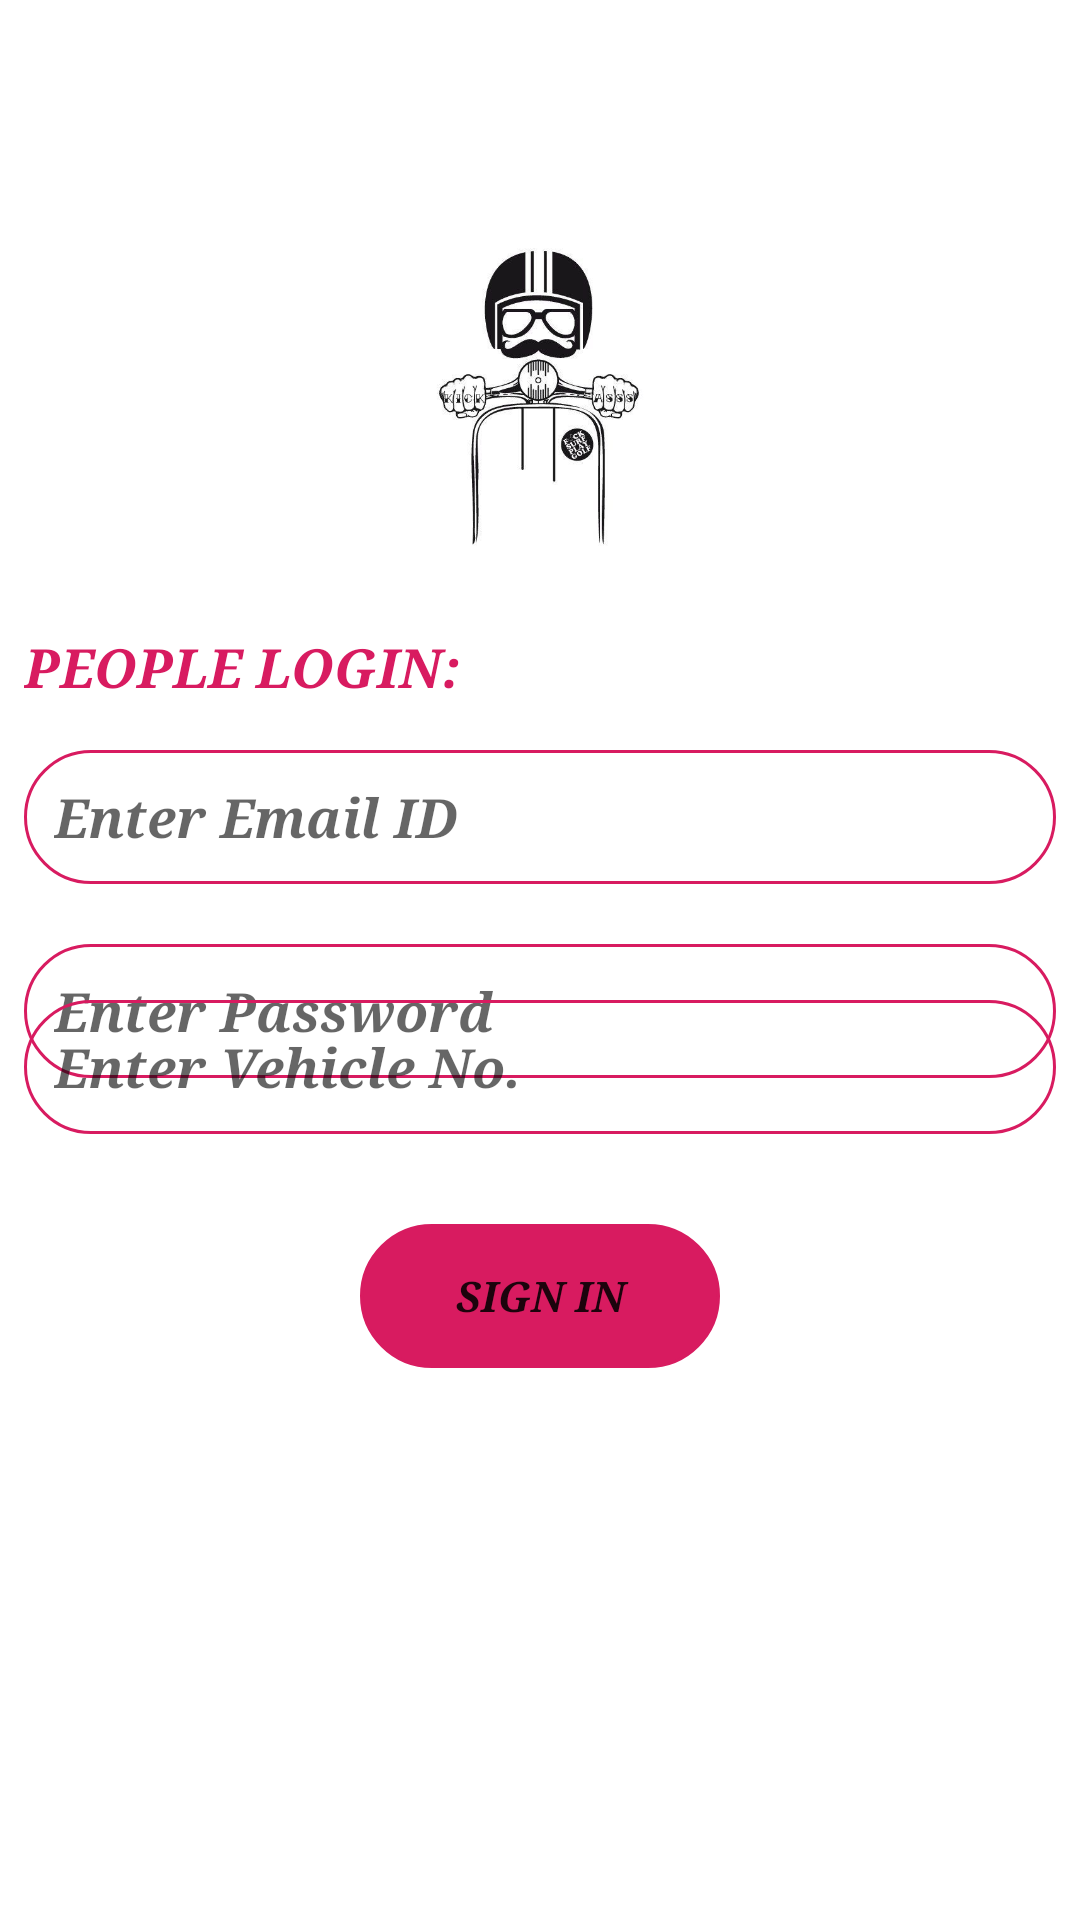

Locate icon controls on the screen. Image size 1080 x 1920, boxes as bbox=(x1, y1, x2, y2).
photo: bbox=(439, 251, 639, 545)
